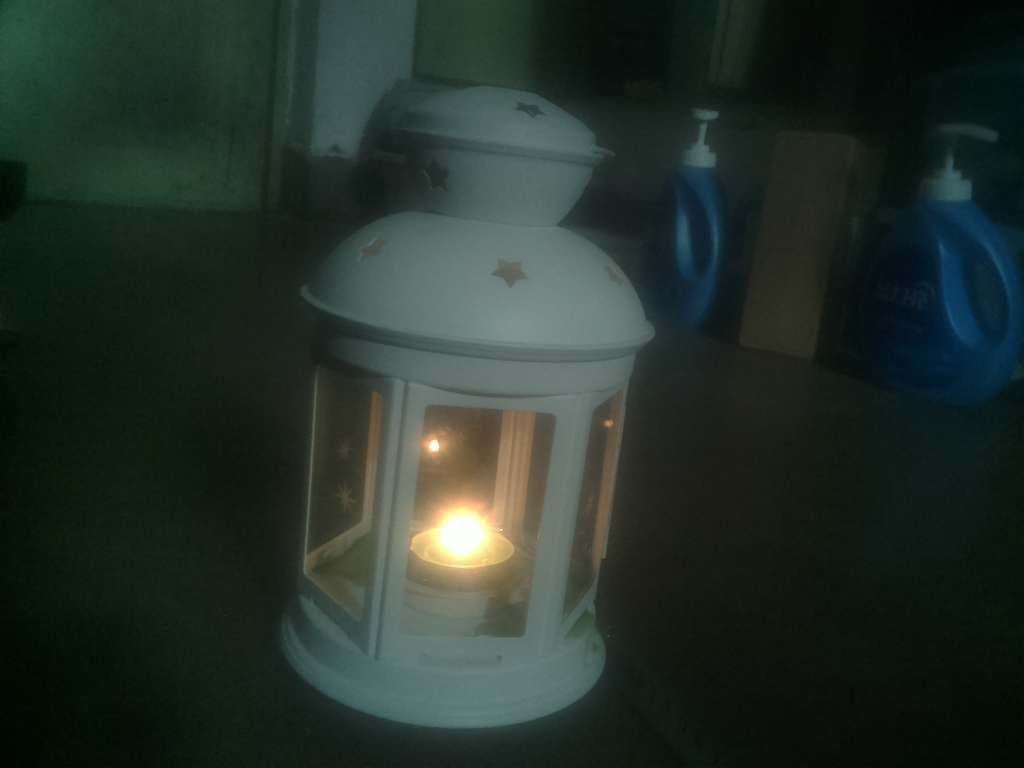fire: (404, 496, 517, 588)
